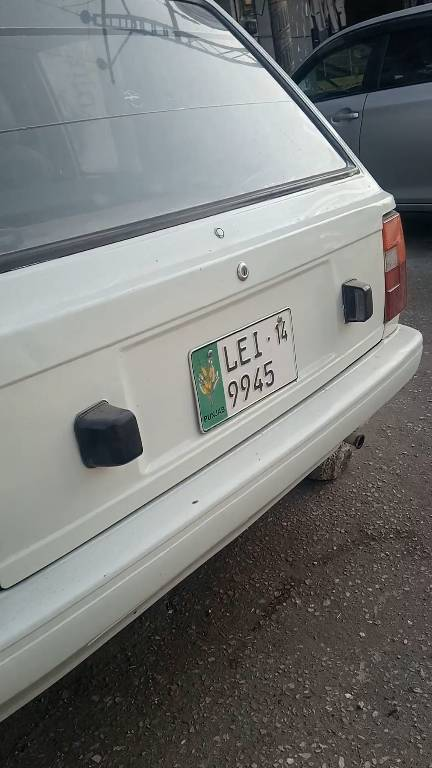number_plate: (184, 309, 316, 432)
